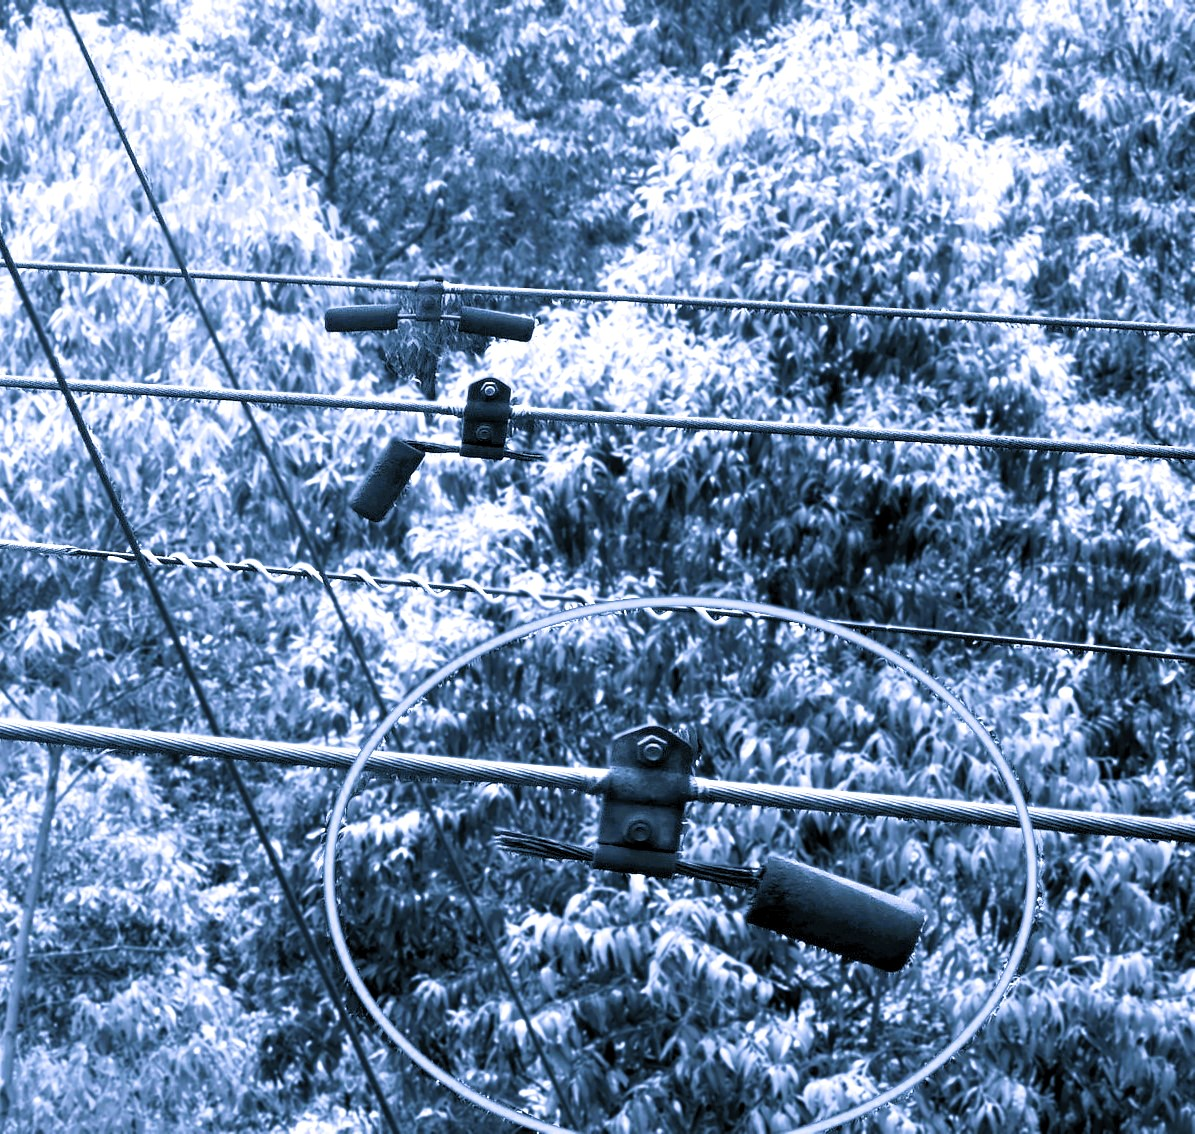Damage of shockproof hammer: (487, 700, 933, 992), (332, 370, 572, 522)
